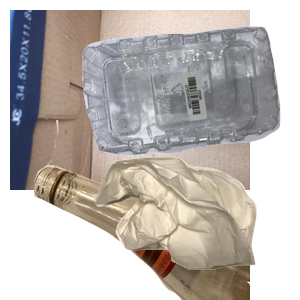cardboard: (10, 10, 250, 190)
glass: (31, 120, 271, 300)
plastic: (80, 24, 300, 172)
trash: (90, 155, 300, 300)
